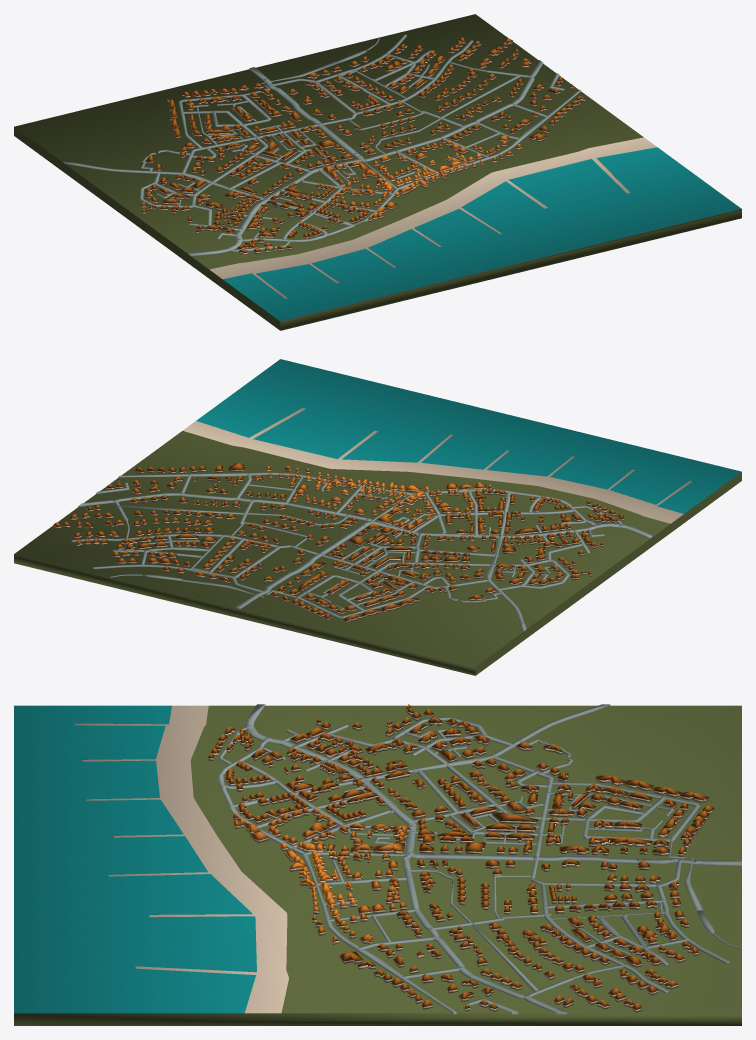
File: zoutelande final.fbx
3 renders of one model, top to bottom at view 1: azimuth 30°, elevation 25°; view 2: azimuth 150°, elevation 25°; view 3: azimuth 270°, elevation 25°, orthographic. The views are drawn at different scales.
Parts seen in each view (by area): view 1: map_mesh (1).038; view 2: map_mesh (1).038; view 3: map_mesh (1).038.
Part boxes in pixels (bbox=[...]): map_mesh (1).038: bbox=[14, 14, 741, 330]; map_mesh (1).038: bbox=[14, 359, 741, 675]; map_mesh (1).038: bbox=[14, 704, 741, 1025].
Size of the model in its own units: 5265 by 152 by 5265.
Materials: 4 (4 with a texture image).
